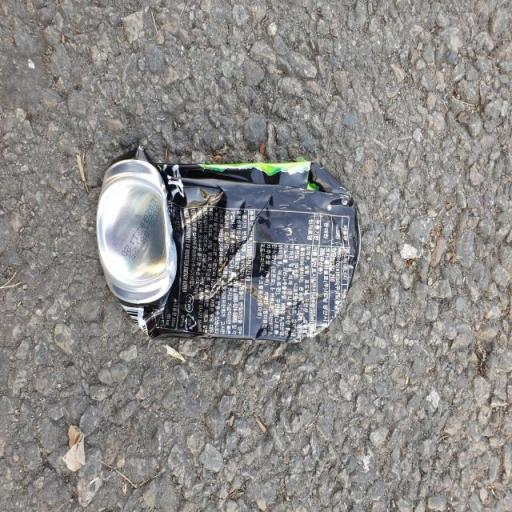metal: (92, 139, 385, 408)
